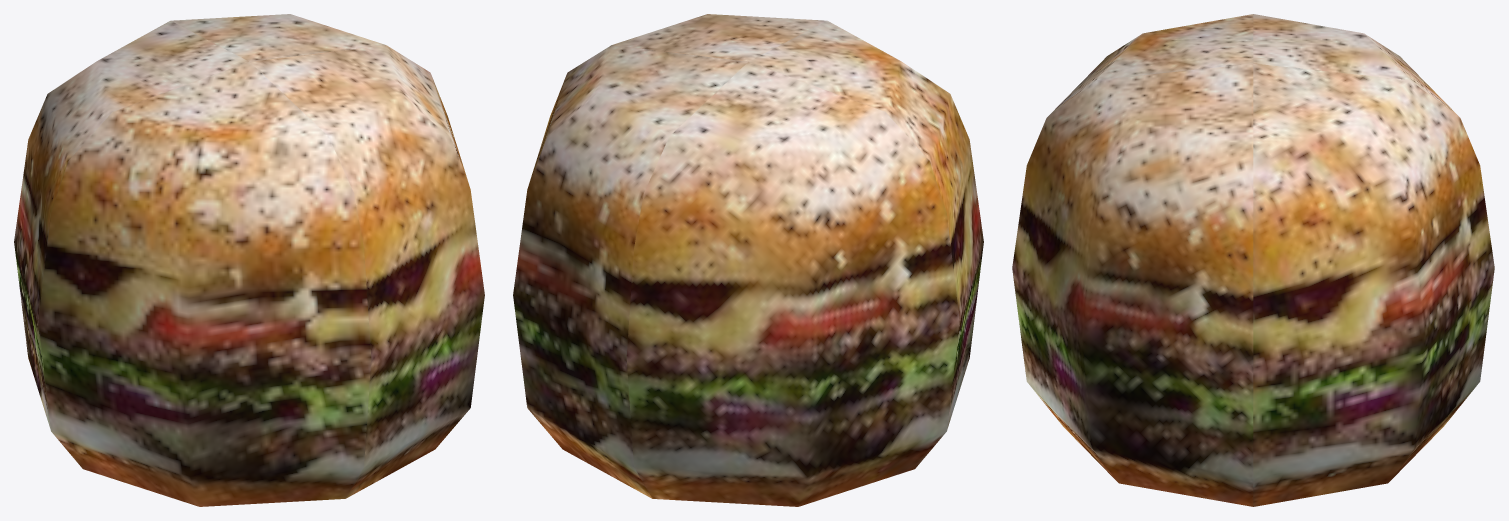
The model's file is Burger_01.glb.
The picture shows the model from 3 angles, left to right: view 1: azimuth 30°, elevation 25°; view 2: azimuth 150°, elevation 25°; view 3: azimuth 270°, elevation 25°; orthographic projection.
Parts seen in each view (by area): view 1: Burger_01; view 2: Burger_01; view 3: Burger_01.
Part boxes in pixels (x1,y1,x2,y2): Burger_01: (14, 14, 484, 506); Burger_01: (513, 14, 983, 506); Burger_01: (1012, 14, 1494, 506).
Bounding box in the file's own units: 0.1955 × 0.1622 × 0.1955.
1 material, 1 textured.
